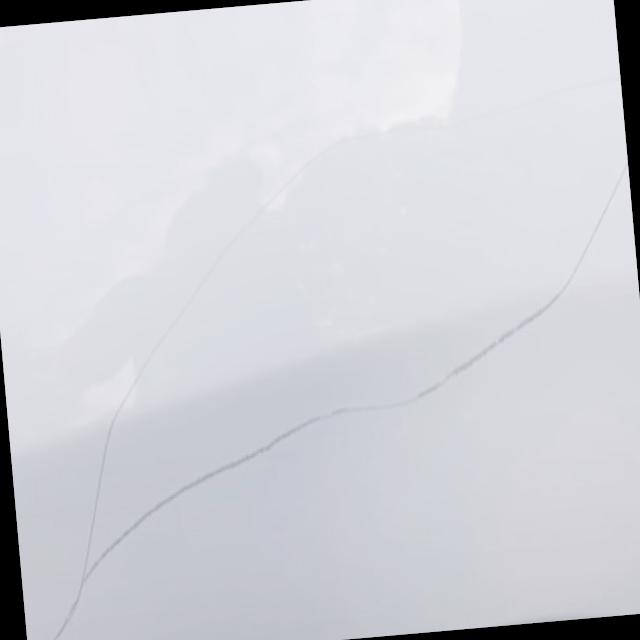crack: (70, 60, 522, 420), (86, 316, 558, 569)
